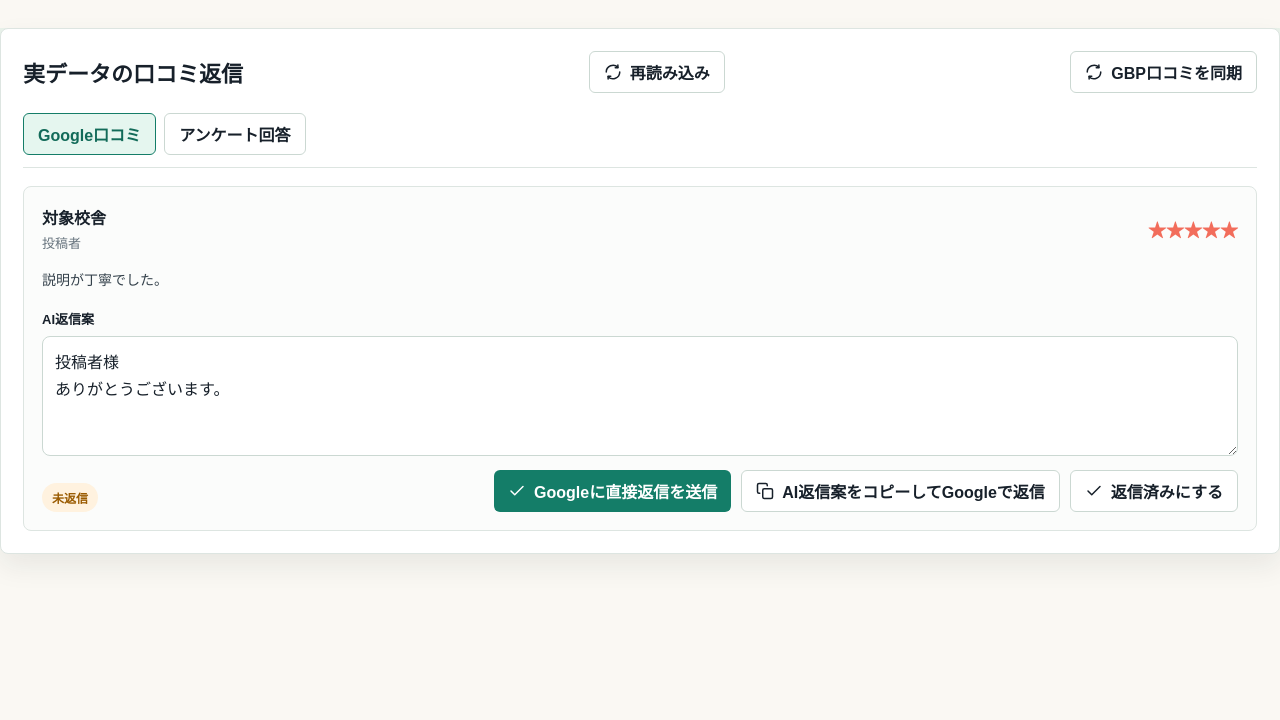
Test: ReviewsClient direct Google replies › preserves the draft and permits retry after a confirmed local save (RATE_LIMITED)
Expected: the text "投稿者" is shown, 42,236 -> 81,251
Replace the text in the text box labelled "AI返信案" with "修正した下書き": (640, 396) 42,336 -> 1238,456
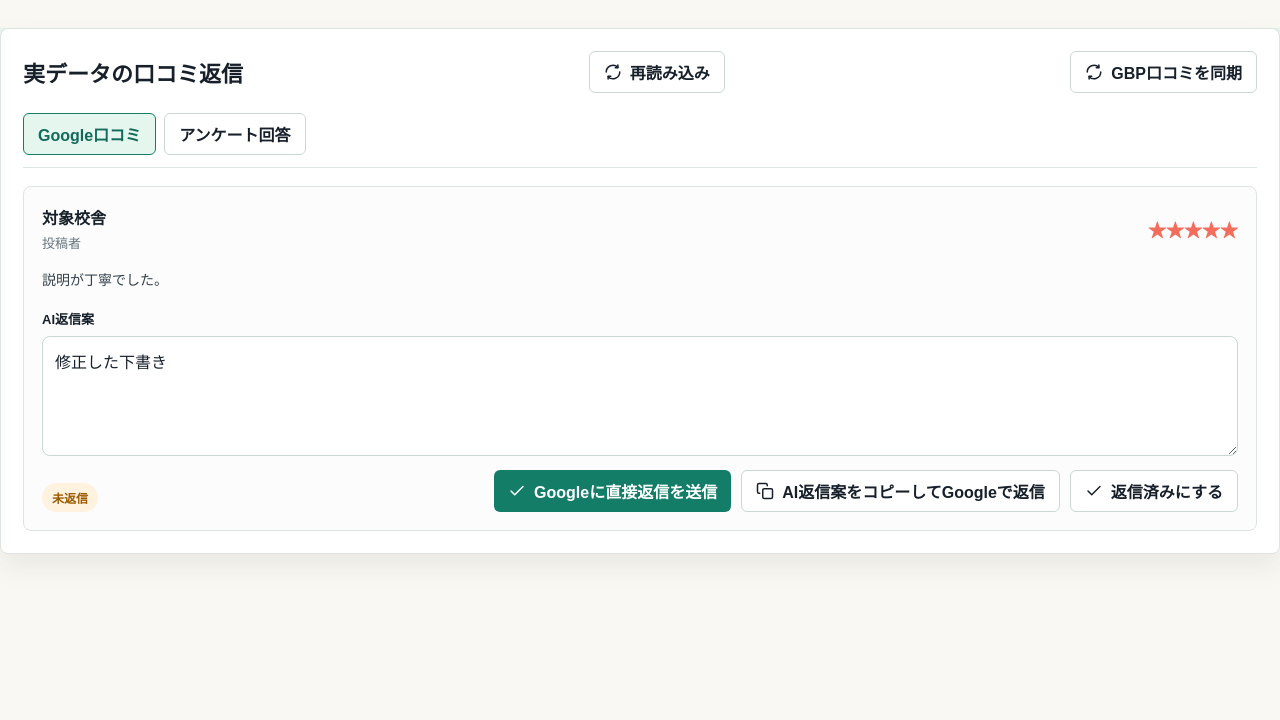
Click the button "Googleに直接返信を送信": (613, 491) 494,470 -> 731,512
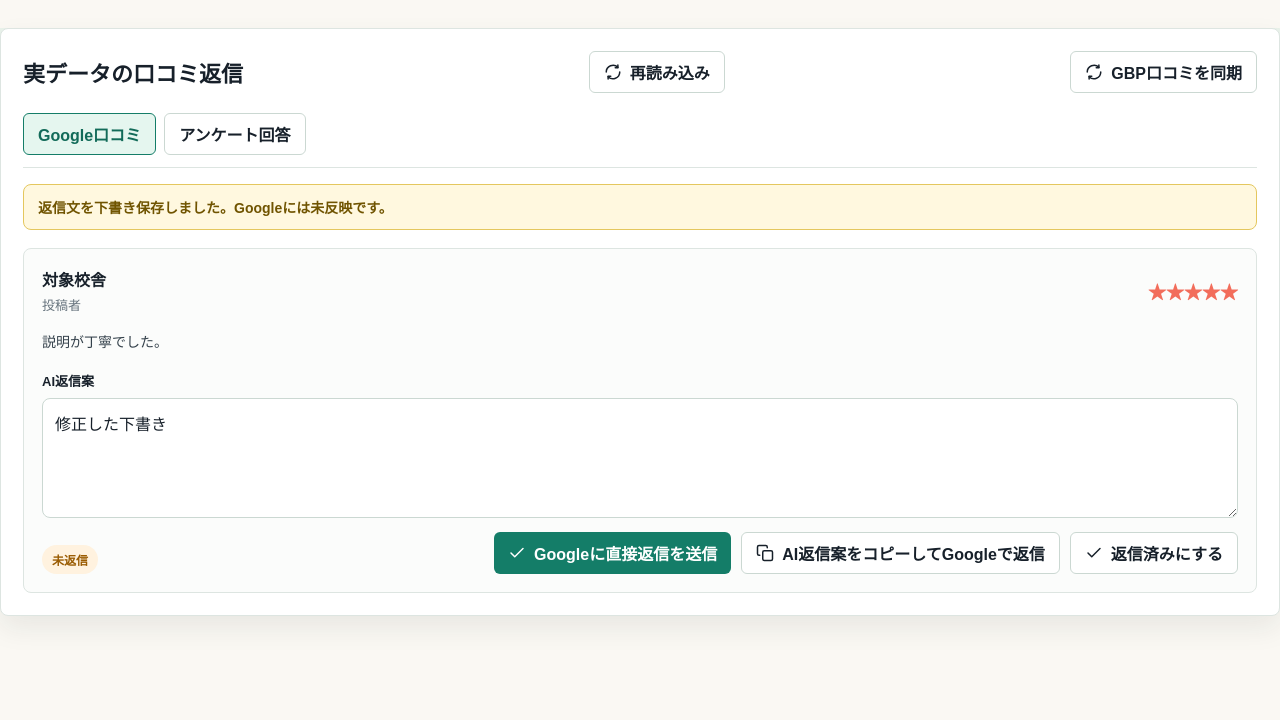
Expected: the text box labelled "AI返信案" is enabled, 42,398 -> 1238,518
Now the text "返信文を下書き保存しました。Googleには未反映です。" is shown, box 23,184 -> 1257,230
Click the button "再読み込み": (657, 72) 589,51 -> 725,93
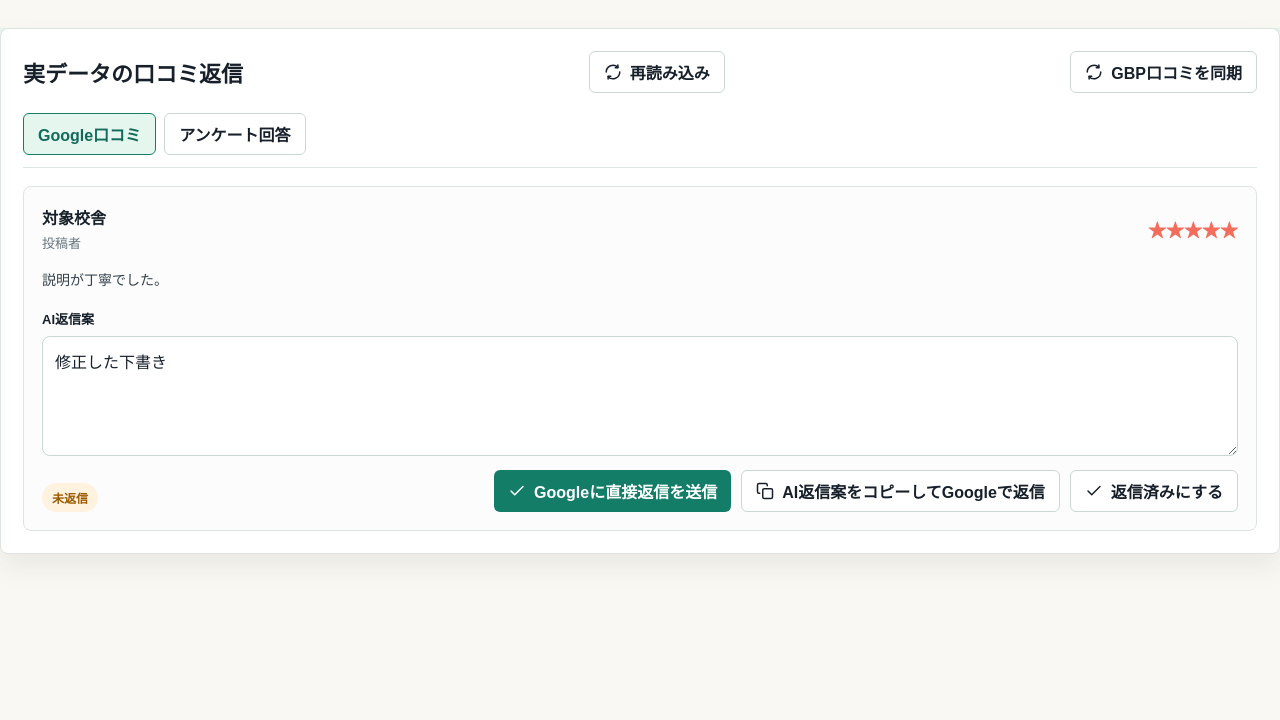
Expected: the text box labelled "AI返信案" is enabled, 42,336 -> 1238,456
Click the button "Googleに直接返信を送信": (613, 491) 494,470 -> 731,512
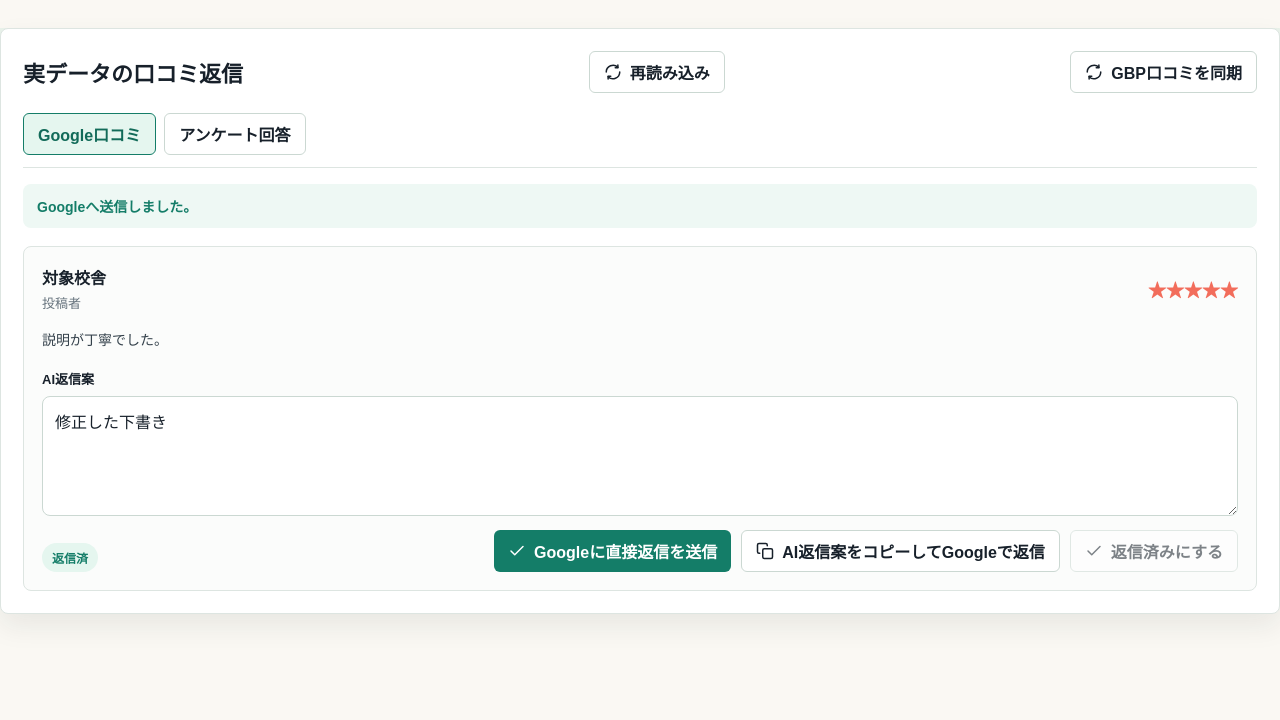
Now the text "Googleへ送信しました。" is shown, box 23,184 -> 1257,228
Now the text "返信済" is shown, box 42,543 -> 98,572
